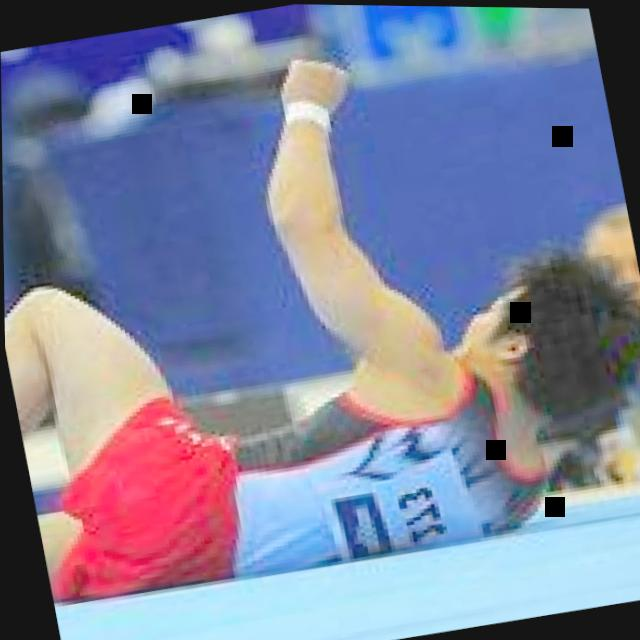Fall-Detected: (0, 0, 640, 589)
